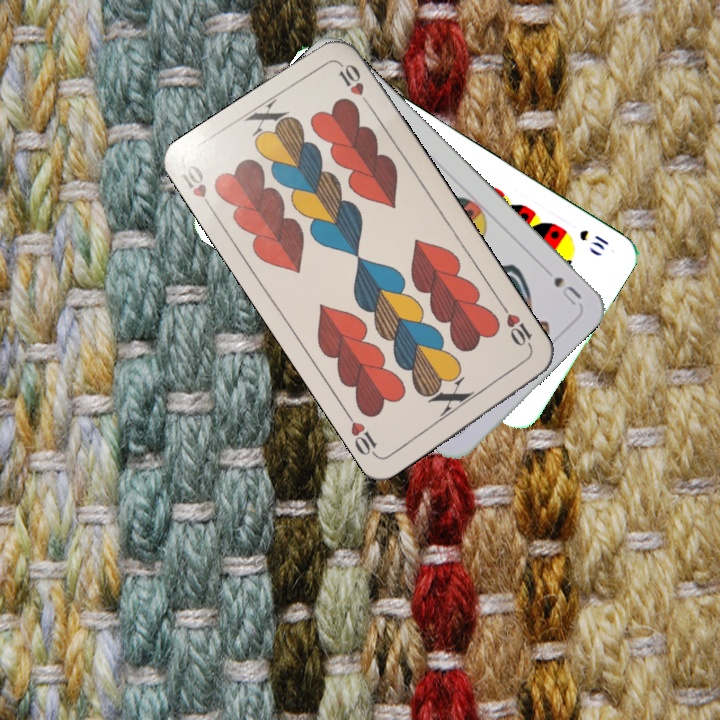H10: (178, 161, 218, 216), (498, 301, 536, 355)
S10: (575, 225, 612, 253)
SU: (549, 272, 584, 308)
